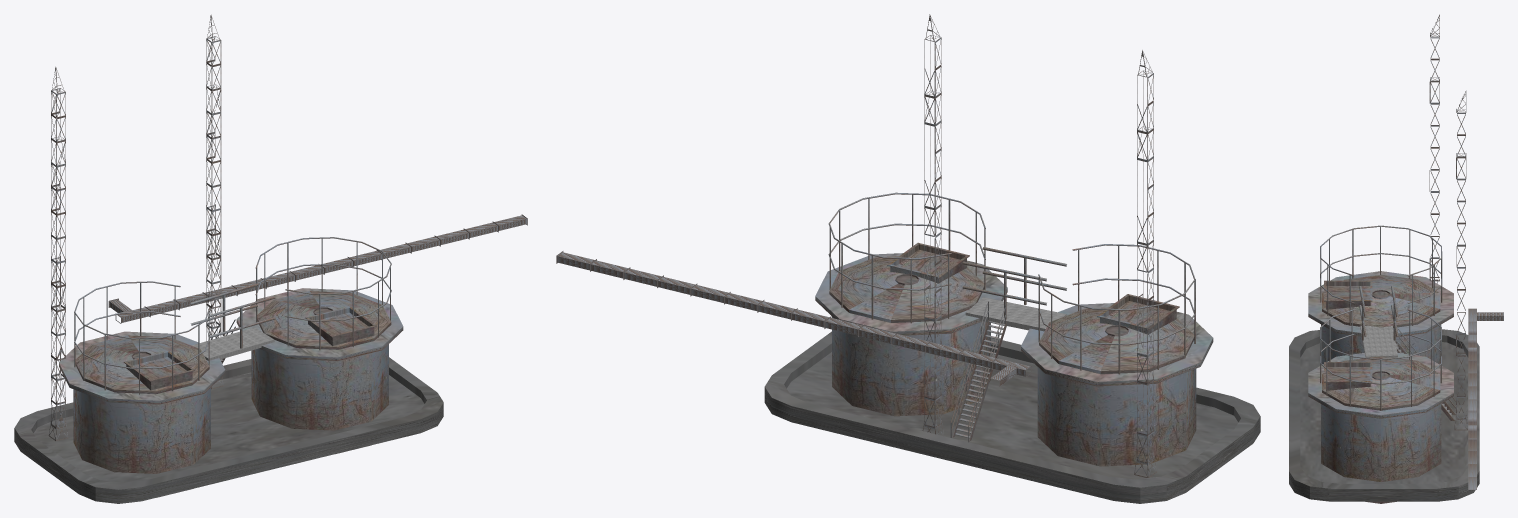
Rendered from changfang07.gltf.
3 views of the same model, side by side, from view 1: azimuth 30°, elevation 25°; view 2: azimuth 150°, elevation 25°; view 3: azimuth 270°, elevation 25° (orthographic). The views are drawn at different scales.
Parts seen in each view (by area): view 1: changfang07_268, changfang07_231, changfang07_246, changfang07_252, changfang07_66, changfang07_26, changfang07_230, changfang07_20, changfang07_194, changfang07_253, changfang07_278, changfang07_258; view 2: changfang07_268, changfang07_231, changfang07_246, changfang07_66, changfang07_252, changfang07_230, changfang07_20, changfang07_194, changfang07_26, changfang07_253, changfang07_278, changfang07_258; view 3: changfang07_268, changfang07_246, changfang07_252, changfang07_66, changfang07_194, changfang07_230, changfang07_231, changfang07_278, changfang07_253, changfang07_20, changfang07_258, changfang07_26 (+4 smaller).
Boxes of the visible parts, bbox=[...] form: changfang07_268: bbox=[14, 357, 443, 503]; changfang07_231: bbox=[73, 388, 210, 497]; changfang07_246: bbox=[251, 344, 388, 454]; changfang07_252: bbox=[257, 291, 391, 349]; changfang07_66: bbox=[75, 335, 209, 394]; changfang07_26: bbox=[48, 88, 65, 440]; changfang07_230: bbox=[59, 331, 225, 404]; changfang07_20: bbox=[206, 36, 221, 388]; changfang07_194: bbox=[236, 288, 403, 361]; changfang07_253: bbox=[305, 306, 376, 346]; changfang07_278: bbox=[123, 351, 195, 390]; changfang07_258: bbox=[192, 327, 274, 360]; changfang07_268: bbox=[764, 331, 1260, 503]; changfang07_231: bbox=[1037, 367, 1196, 466]; changfang07_246: bbox=[832, 317, 990, 416]; changfang07_66: bbox=[1039, 307, 1194, 374]; changfang07_252: bbox=[829, 256, 984, 322]; changfang07_230: bbox=[1021, 303, 1213, 386]; changfang07_20: bbox=[922, 35, 943, 436]; changfang07_194: bbox=[815, 253, 1007, 335]; changfang07_26: bbox=[1134, 70, 1156, 477]; changfang07_253: bbox=[887, 242, 969, 283]; changfang07_278: bbox=[1097, 294, 1179, 334]; changfang07_258: bbox=[965, 297, 1066, 331]; changfang07_268: bbox=[1289, 329, 1479, 501]; changfang07_246: bbox=[1321, 404, 1441, 503]; changfang07_252: bbox=[1322, 355, 1440, 410]; changfang07_66: bbox=[1322, 274, 1440, 327]; changfang07_194: bbox=[1308, 352, 1453, 418]; changfang07_230: bbox=[1308, 271, 1453, 337]; changfang07_231: bbox=[1321, 324, 1441, 364]; changfang07_278: bbox=[1324, 280, 1372, 309]; changfang07_253: bbox=[1324, 362, 1372, 390]; changfang07_20: bbox=[1455, 109, 1467, 430]; changfang07_258: bbox=[1360, 325, 1397, 357]; changfang07_26: bbox=[1429, 33, 1439, 283].
Size of what is drawn, in the model's own units: 343 by 246 by 133.
Materials: 3 (3 with a texture image).
